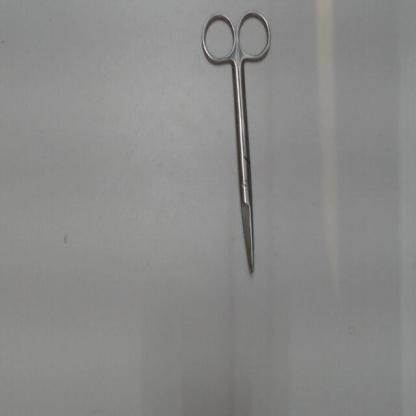Curved Mayo Scissors: (198, 8, 276, 276)
